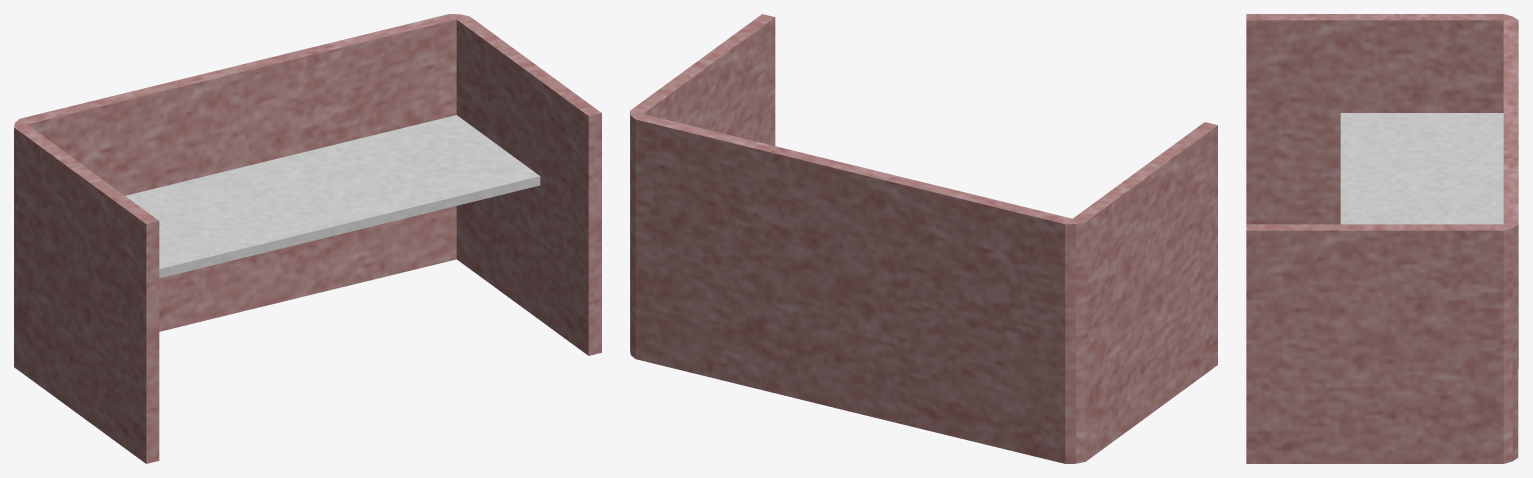
The model's file is divider_full_c_desk_red.obj.
3 views of the same model, side by side, from view 1: azimuth 30°, elevation 25°; view 2: azimuth 150°, elevation 25°; view 3: azimuth 270°, elevation 25° (orthographic). The views are drawn at different scales.
Visible parts, largest first — view 1: divider_full_c_desk_red; view 2: divider_full_c_desk_red; view 3: divider_full_c_desk_red.
Part boxes in pixels (x1,y1,x2,y2): divider_full_c_desk_red: (14, 14, 601, 463); divider_full_c_desk_red: (630, 14, 1217, 463); divider_full_c_desk_red: (1246, 14, 1518, 463).
Size of the model in its own units: 2.99 by 1.5 by 1.59.
